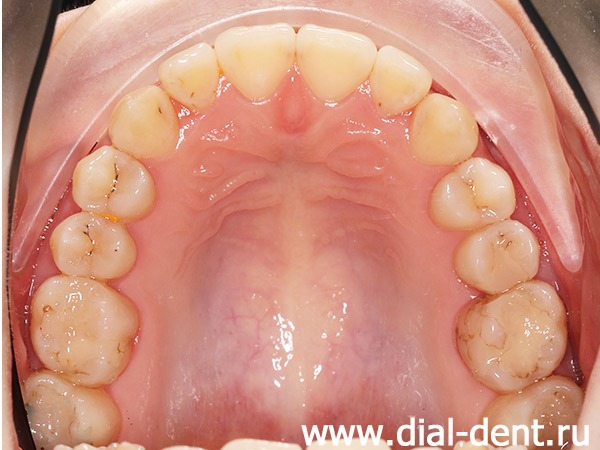UL1BC_healthy: (431, 158, 515, 228)
UL1M_decay: (460, 280, 565, 387)
UL2BC_healthy: (457, 220, 538, 292)
ULCI_healthy: (298, 24, 375, 99)
ULC_healthy: (413, 93, 479, 162)
ULLI_healthy: (372, 46, 431, 103)
UR1BC_decay: (73, 146, 157, 219)
UR1M_decay: (33, 277, 136, 387)
UR2BC_decay: (50, 213, 136, 277)
UR2M_decay: (30, 380, 117, 443)
URCI_healthy: (216, 25, 296, 100)
URC_healthy: (108, 87, 179, 158)
URLI_decay: (160, 43, 217, 108)
